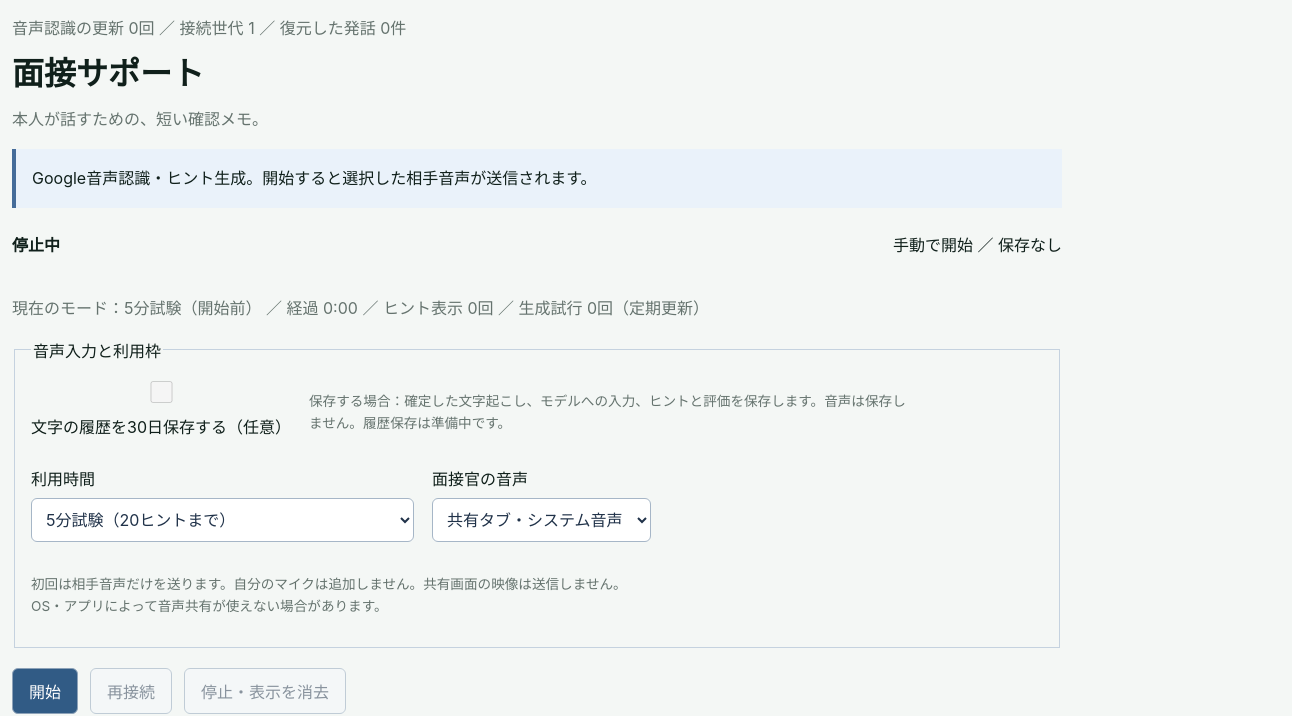
Test: relay panel › permission failure allocates no paid session and permits manual retry
Click the button "開始" at (45,691), box [12, 668, 78, 714]
(page scrolled)
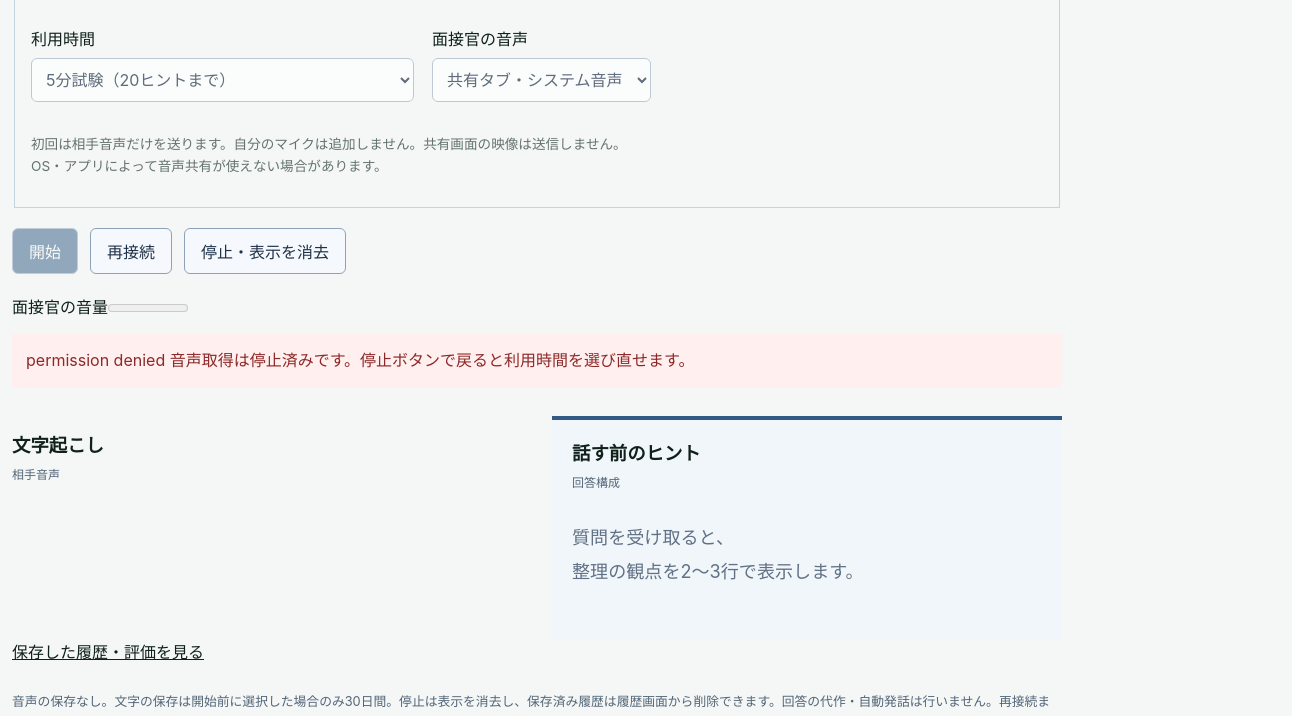
Expected: the message shows "permission denied", [26, 350, 694, 370]
